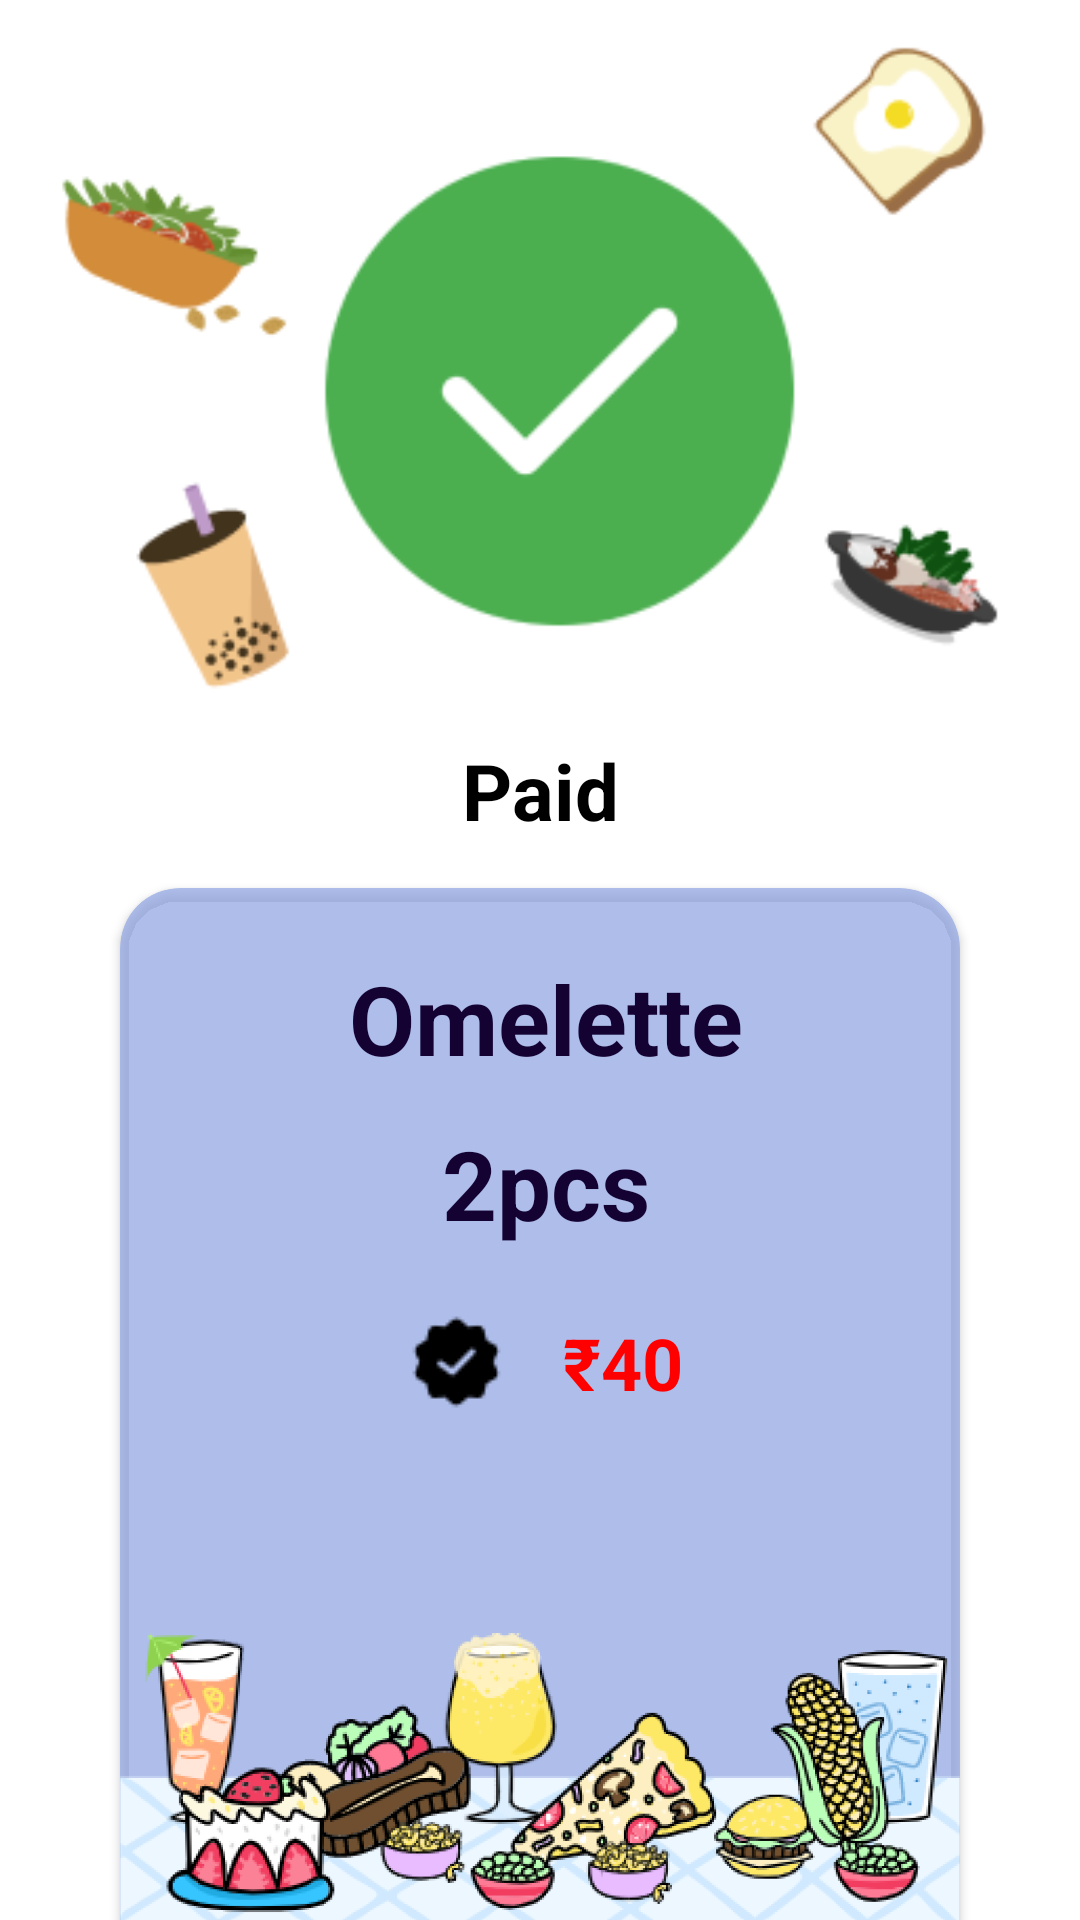

Screen size 1080w x 1920h. Icon name, then its box in pixels as (x1, y1, x2, y2):
verify: (413, 1316, 500, 1407)
